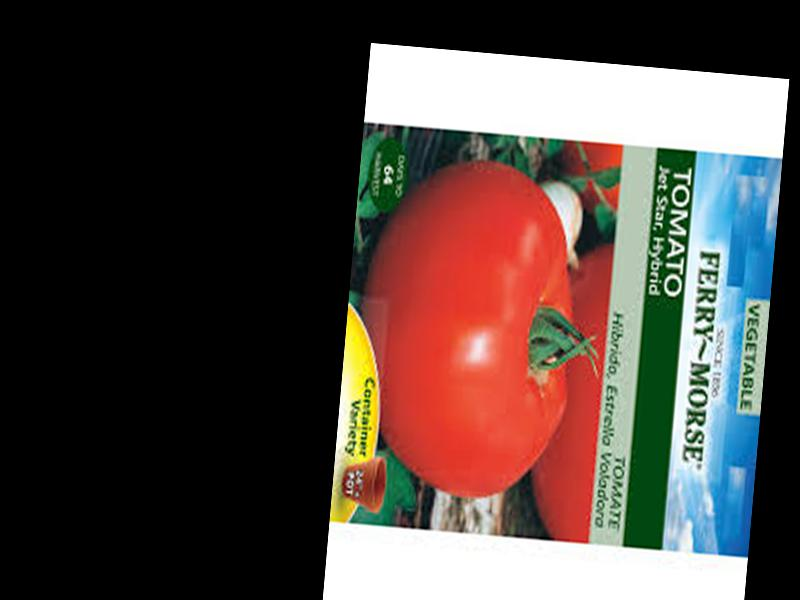Tomato: (347, 151, 586, 501)
